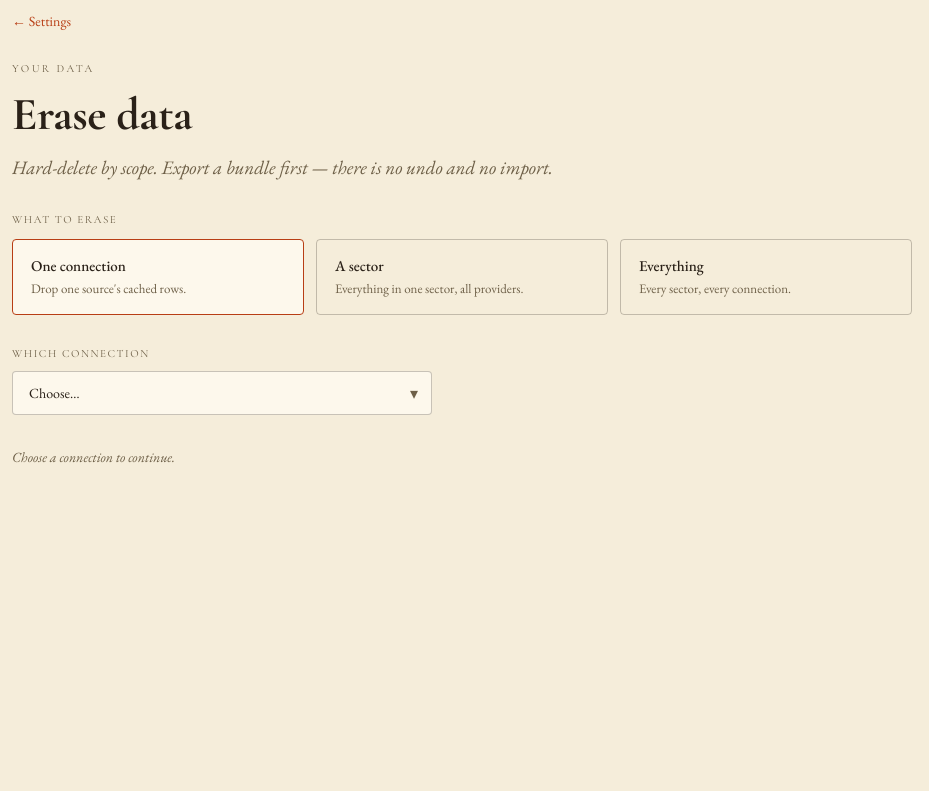
Test: #74 — scope selection and the typed guard › default (connection) scope withholds the confirm until a connection is chosen
Expected: the text "Choose a connection to continue." is shown, [12, 448, 175, 466]
Step 1. Select "SimpleFIN — Finance · conn_abc" in the dropdown named "Which connection to erase" → (222, 393), box [12, 371, 432, 415]
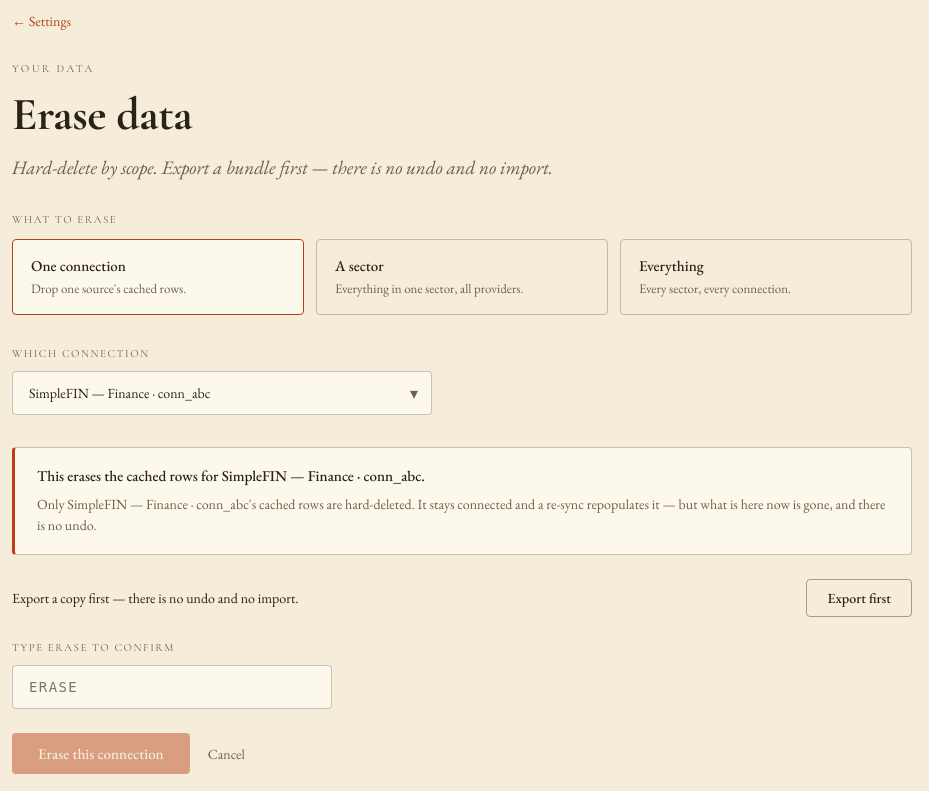
Expected: the button "Erase this connection" is shown, [12, 733, 190, 774]
